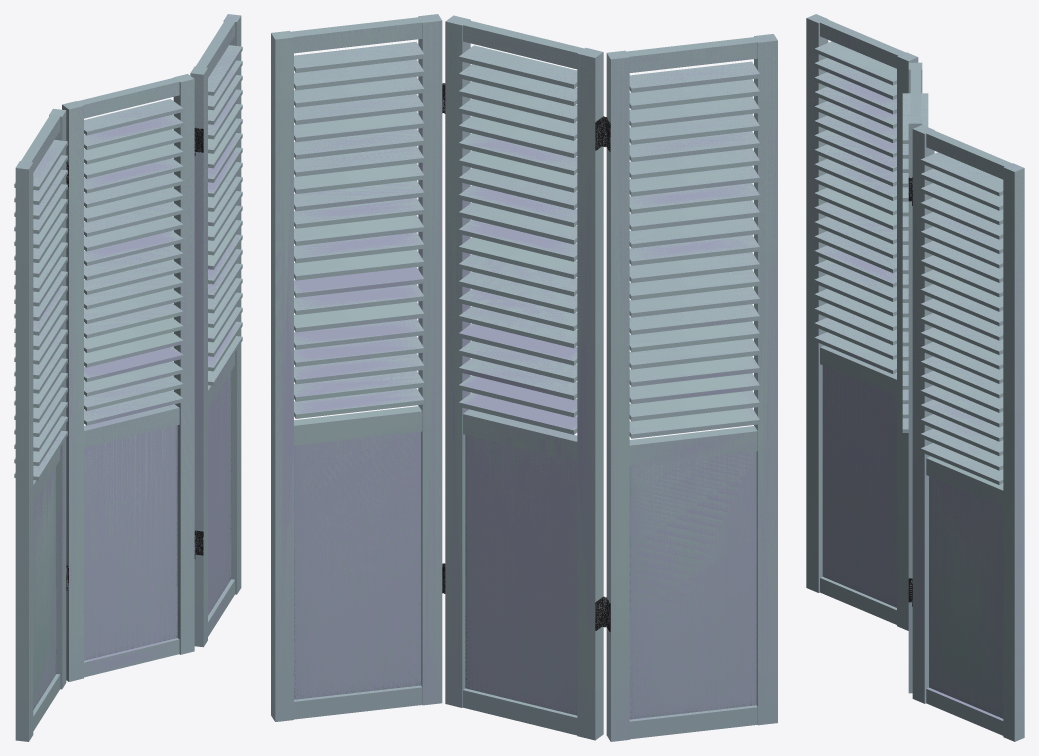
File: prop_paravent_newport_gris.fbx
3 views of the same model, side by side, from view 1: azimuth 30°, elevation 25°; view 2: azimuth 150°, elevation 25°; view 3: azimuth 270°, elevation 25° (orthographic). The views are drawn at different scales.
Parts seen in each view (by area): view 1: panneau1, panneau3, panneau2, Group11, Group20, Group21, Group22, Group12, Group13, Group14, Group15, Group16 (+54 smaller); view 2: panneau2, panneau3, panneau1, Group55, Group33, Group57, Group65, Group74, Group58, Group60, Group61, Group64 (+54 smaller); view 3: panneau2, panneau3, panneau1, Group33, Group55, Group41, Group40, Group43, Group48, Group49, Group50, Group52 (+34 smaller).
Boxes of the visible parts, x1,y1,x2,y2 form: panneau1: [62, 74, 194, 681]; panneau3: [15, 108, 66, 741]; panneau2: [190, 14, 241, 647]; Group11: [84, 99, 183, 135]; Group20: [84, 216, 183, 251]; Group21: [84, 129, 183, 164]; Group22: [84, 143, 183, 178]; Group12: [84, 114, 183, 149]; Group13: [84, 158, 183, 193]; Group14: [84, 172, 183, 207]; Group15: [84, 187, 183, 222]; Group16: [84, 201, 183, 236]; panneau2: [271, 14, 442, 721]; panneau3: [606, 34, 777, 741]; panneau1: [445, 15, 603, 740]; Group55: [629, 61, 759, 92]; Group33: [294, 41, 424, 72]; Group57: [629, 131, 759, 161]; Group65: [629, 96, 759, 127]; Group74: [629, 338, 759, 369]; Group58: [629, 148, 759, 179]; Group60: [629, 183, 759, 213]; Group61: [629, 287, 759, 317]; Group64: [629, 200, 759, 231]; panneau2: [912, 125, 1024, 741]; panneau3: [806, 14, 918, 630]; panneau1: [908, 62, 922, 693]; Group33: [920, 152, 1003, 196]; Group55: [814, 41, 896, 85]; Group41: [920, 284, 1003, 326]; Group40: [920, 327, 1003, 369]; Group43: [920, 183, 1003, 224]; Group48: [920, 298, 1003, 340]; Group49: [920, 313, 1003, 354]; Group50: [920, 443, 1003, 484]; Group52: [920, 385, 1003, 427].
Size of the model in its own units: 1.08 by 1.82 by 0.6312.
